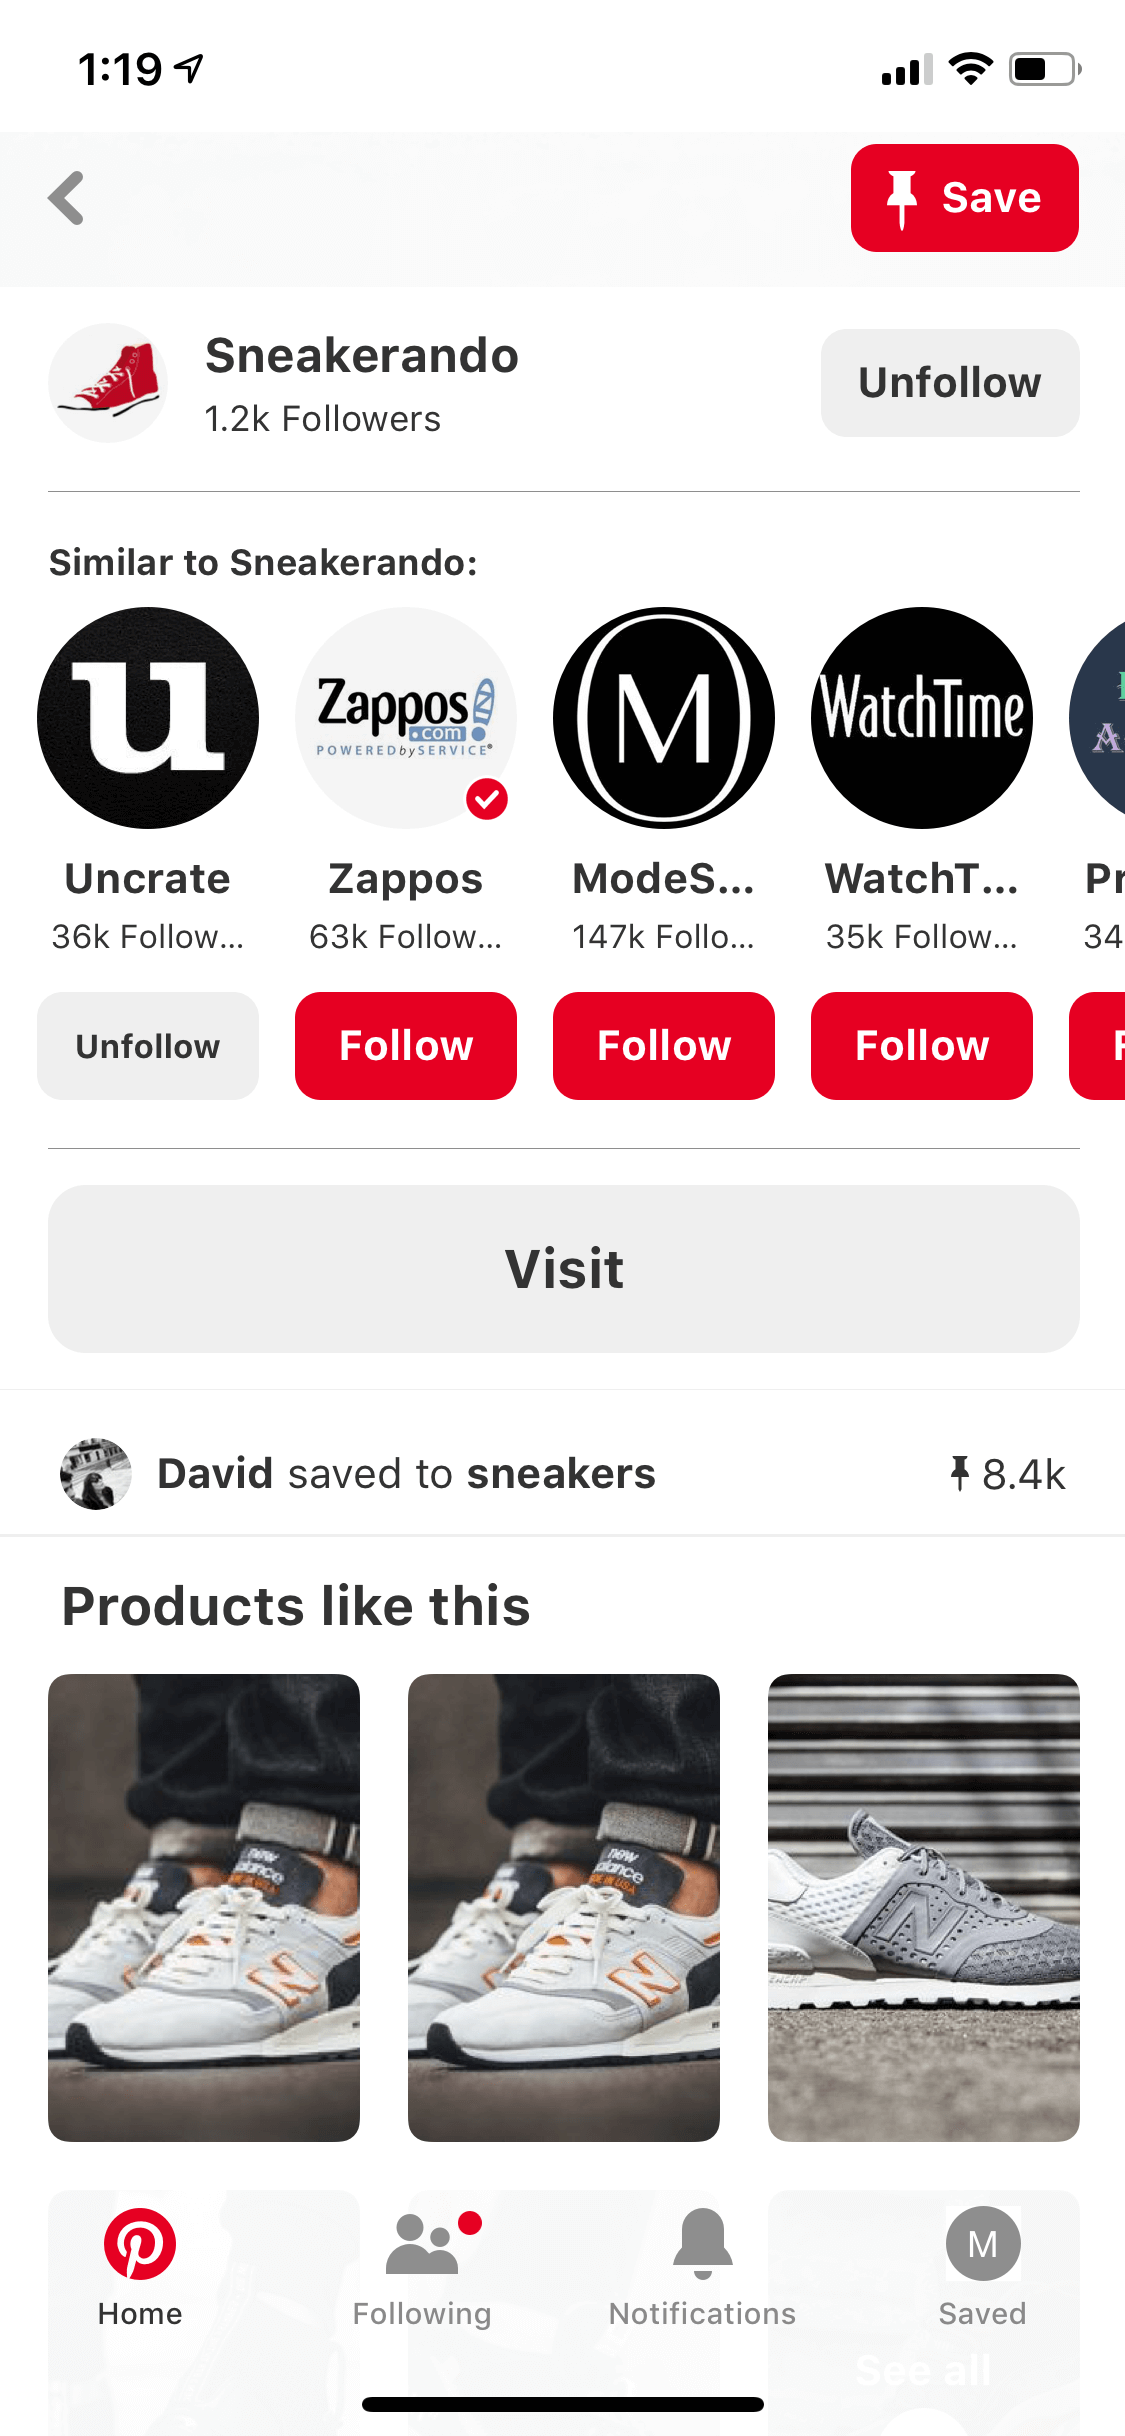Buttons: (39, 1164, 1086, 1366), (800, 308, 1089, 458), (838, 123, 1086, 273), (789, 980, 1040, 1112), (19, 976, 266, 1109), (542, 979, 777, 1114), (287, 977, 521, 1112), (925, 1412, 1089, 1527), (19, 144, 131, 267)
